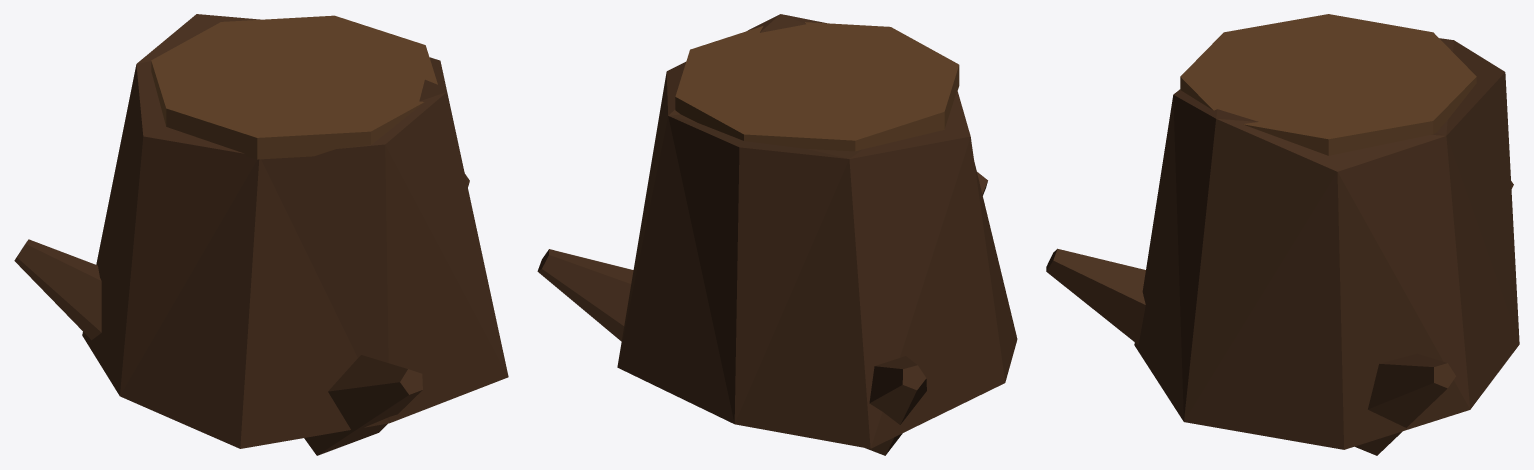
File: Stump.obj
The picture shows the model from 3 angles, left to right: view 1: azimuth 30°, elevation 25°; view 2: azimuth 150°, elevation 25°; view 3: azimuth 270°, elevation 25°; orthographic projection.
Visible parts, largest first — view 1: Stump; view 2: Stump; view 3: Stump.
Boxes of the visible parts, x1,y1,x2,y2 form: Stump: [14, 14, 508, 455]; Stump: [537, 14, 1017, 455]; Stump: [1046, 14, 1519, 455].
Size of the model in its own units: 2.51 by 1.91 by 2.46.
